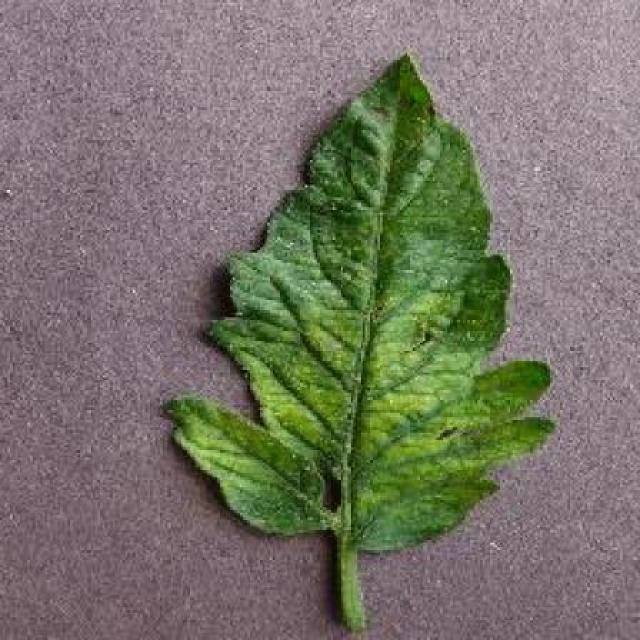Mosaic Virus: (156, 49, 555, 550)
